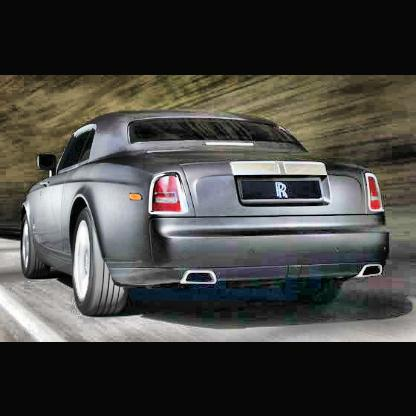Rolls-Royce Phantom Sedan 2012: (20, 106, 411, 316)
